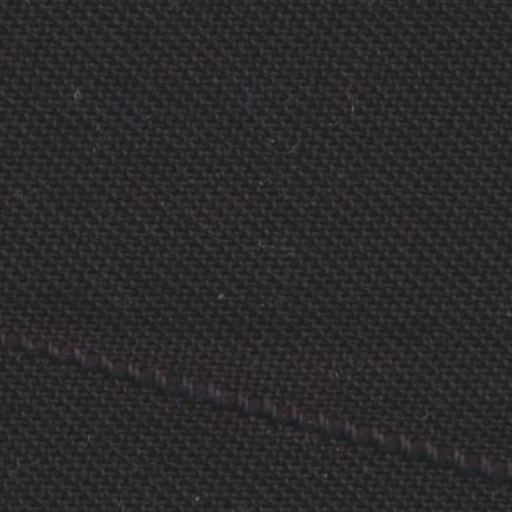DaiSha: (9, 318, 496, 475)
